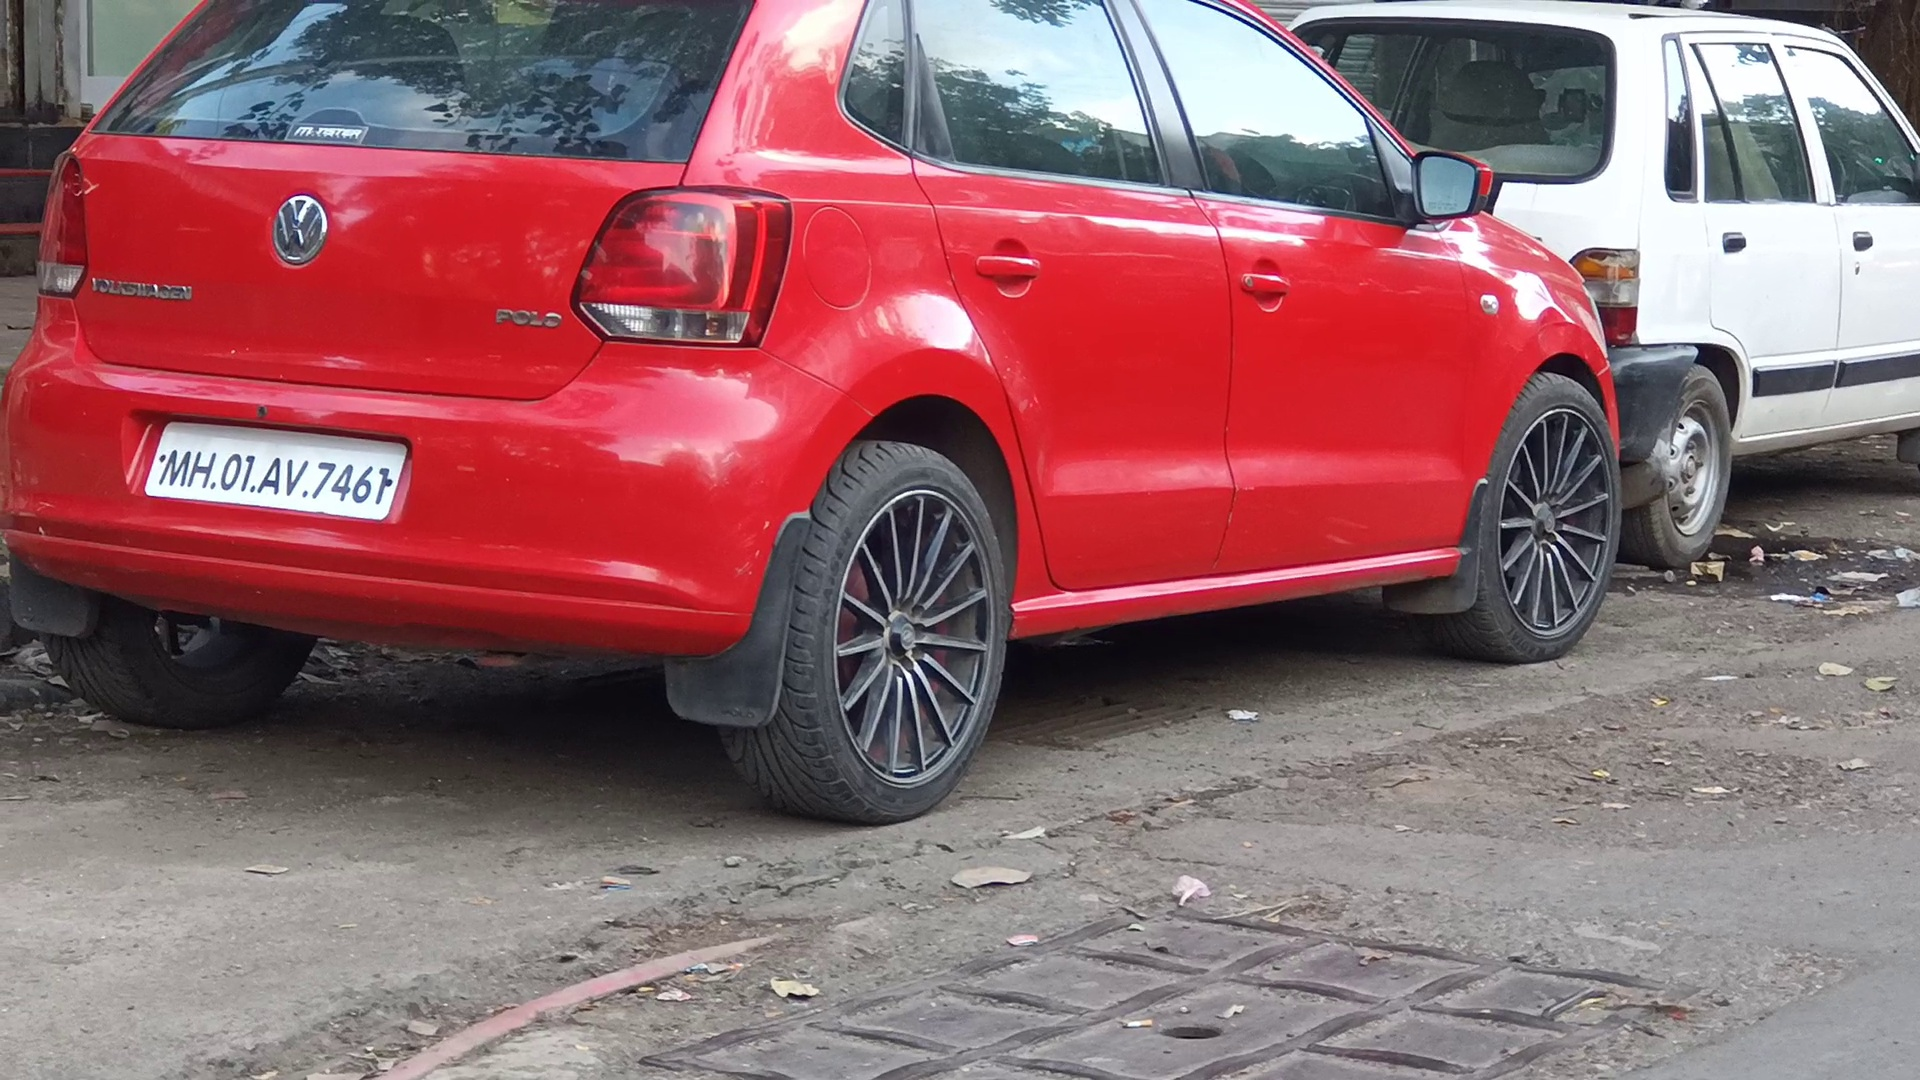MH01AV7461: (147, 417, 405, 519)
